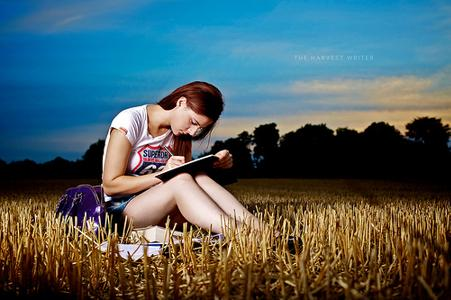person: (101, 81, 305, 253)
